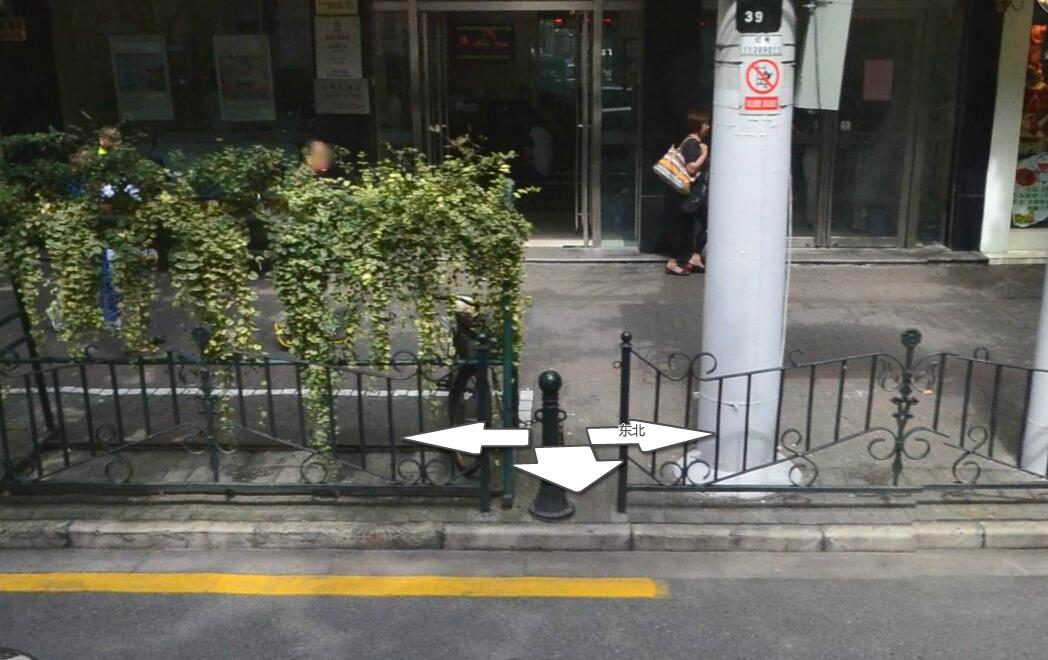side: (445, 518, 633, 554), (255, 519, 445, 553), (68, 519, 255, 550), (636, 522, 824, 550), (826, 522, 985, 552)
